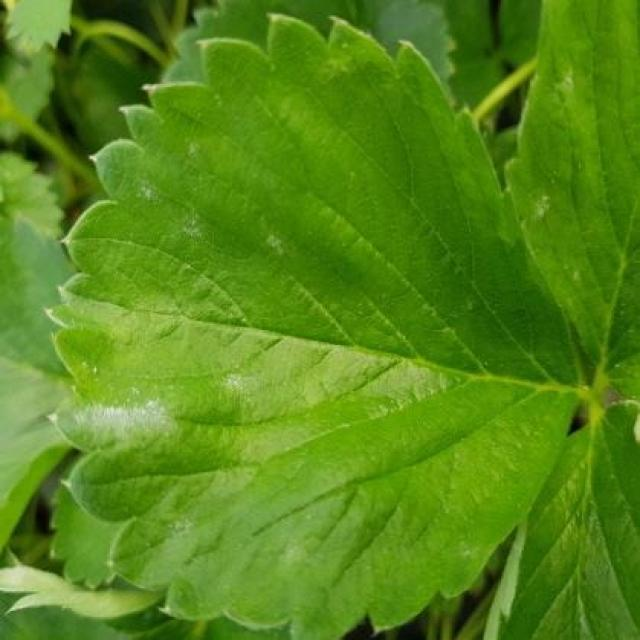powdery_mildew_leaf: (42, 12, 587, 638)
